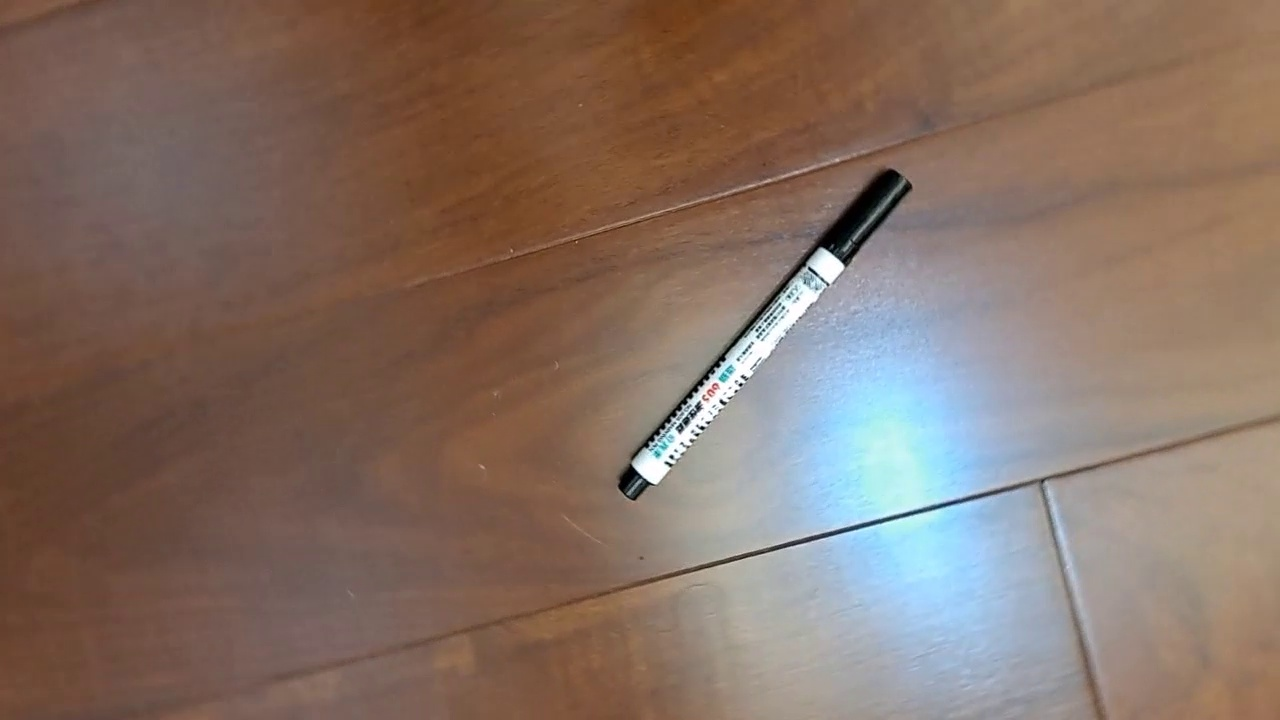pen: (617, 167, 913, 501)
